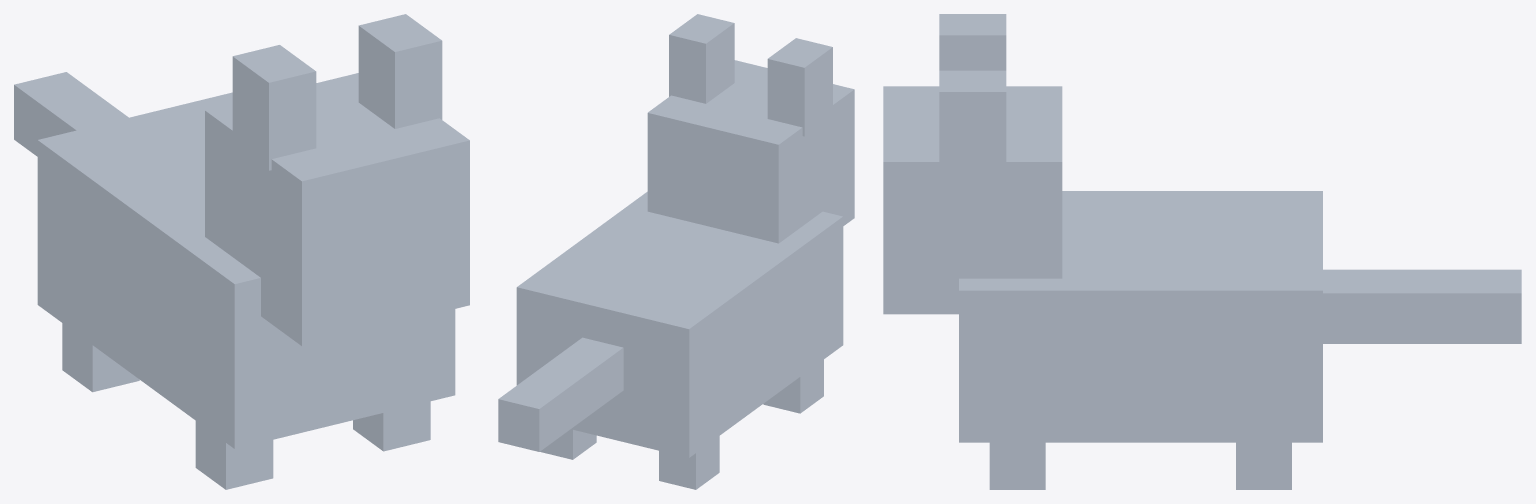
3 views of the same model, side by side, from view 1: azimuth 30°, elevation 25°; view 2: azimuth 150°, elevation 25°; view 3: azimuth 270°, elevation 25° (orthographic). The views are drawn at different scales.
Parts seen in each view (by area): view 1: placeholder_cat; view 2: placeholder_cat; view 3: placeholder_cat.
Part boxes in pixels (x1,y1,x2,y2): placeholder_cat: (14,14,469,489); placeholder_cat: (498,14,854,489); placeholder_cat: (883,14,1521,489).
Bounding box in the file's own units: 0.42 × 0.77 × 1.14.
